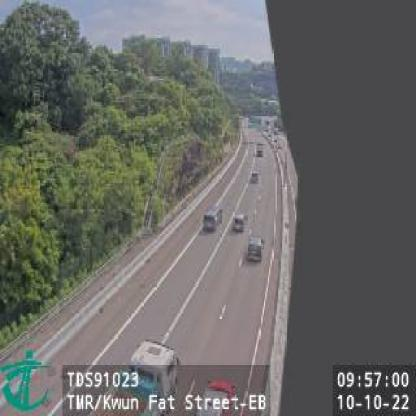Car: (203, 205, 224, 232), (246, 234, 264, 263), (231, 210, 246, 231), (256, 143, 264, 156), (250, 171, 258, 183)
